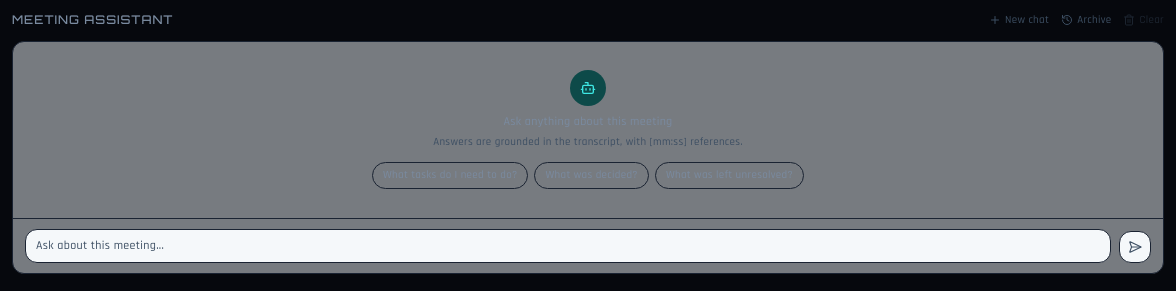
LiveAssistantSection (post-meeting Q&A chat) › disables the input while a response streams and re-enables it afterwards
Type "Who owns the follow-up?" into the text box labelled "Ask about this meeting".
click(568, 246); type("Who owns the follow-up?")  # box top-left (25, 228), bottom-right (1111, 262)
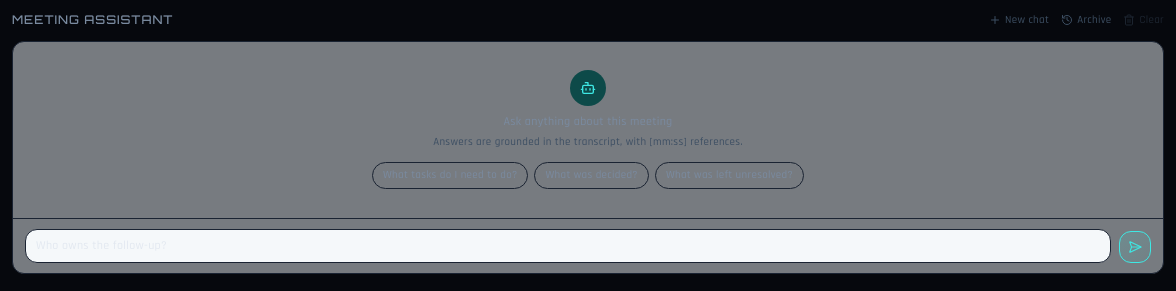
Click the button named "Send message".
click(1135, 246)  # box top-left (1119, 230), bottom-right (1151, 262)
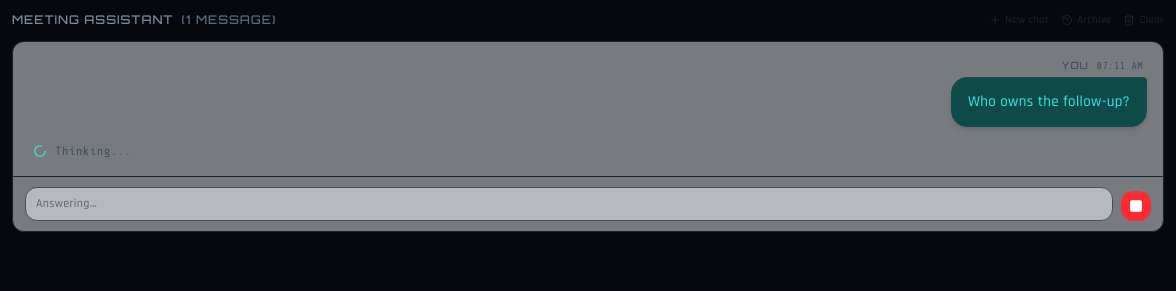
Expected: the text box named "Ask about this meeting" is disabled, top-left (25, 187), bottom-right (1113, 221)
Click the button named "Stop generating".
click(1136, 206)  # box top-left (1121, 191), bottom-right (1151, 221)
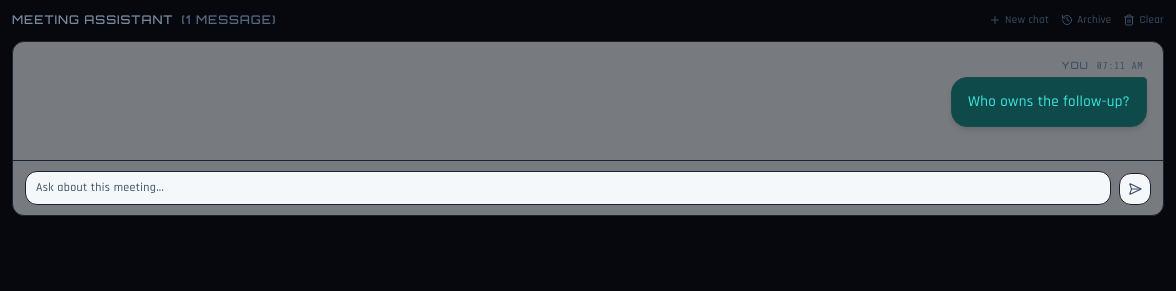
Expected: the text box labelled "Ask about this meeting" is enabled, top-left (25, 171), bottom-right (1111, 205)
